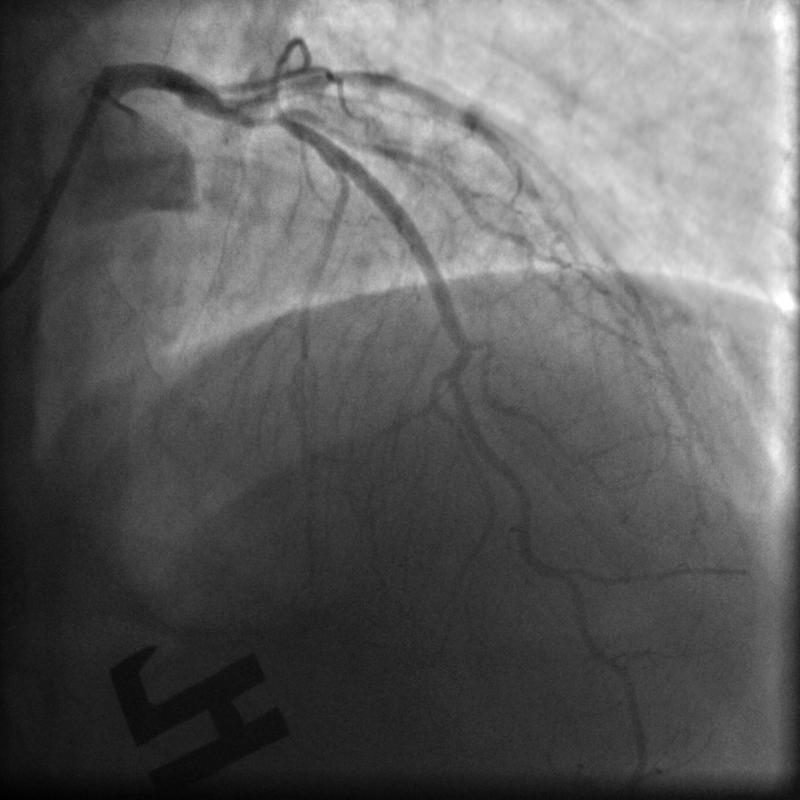Stenosis: (221, 95, 294, 136)
